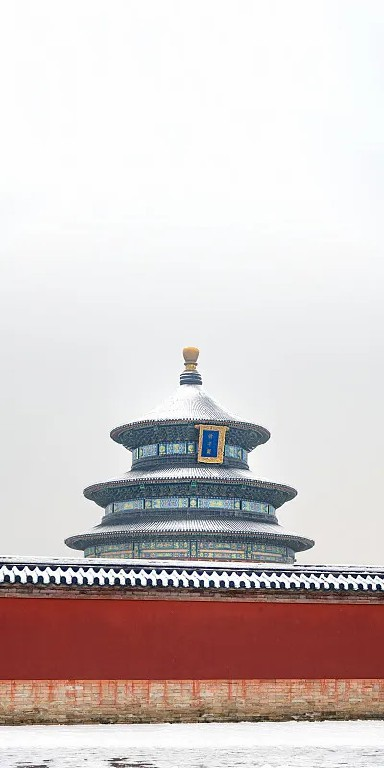Heaven: (62, 344, 314, 566)
